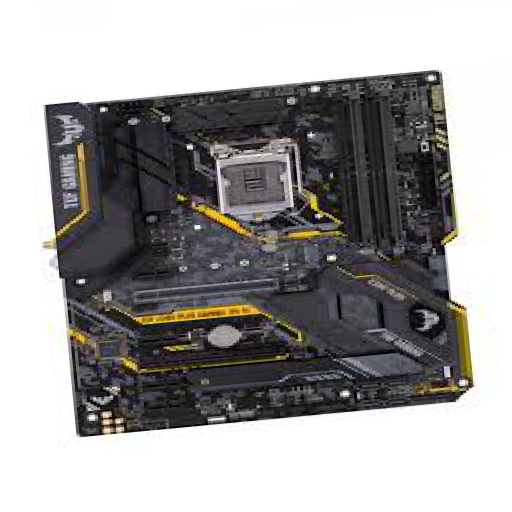CPU: (212, 138, 301, 223)
GPU: (134, 270, 309, 306), (139, 340, 305, 371)
MOTHERBOARD: (45, 70, 470, 438)
RAM: (339, 87, 407, 247)
SSD: (305, 243, 320, 271)
